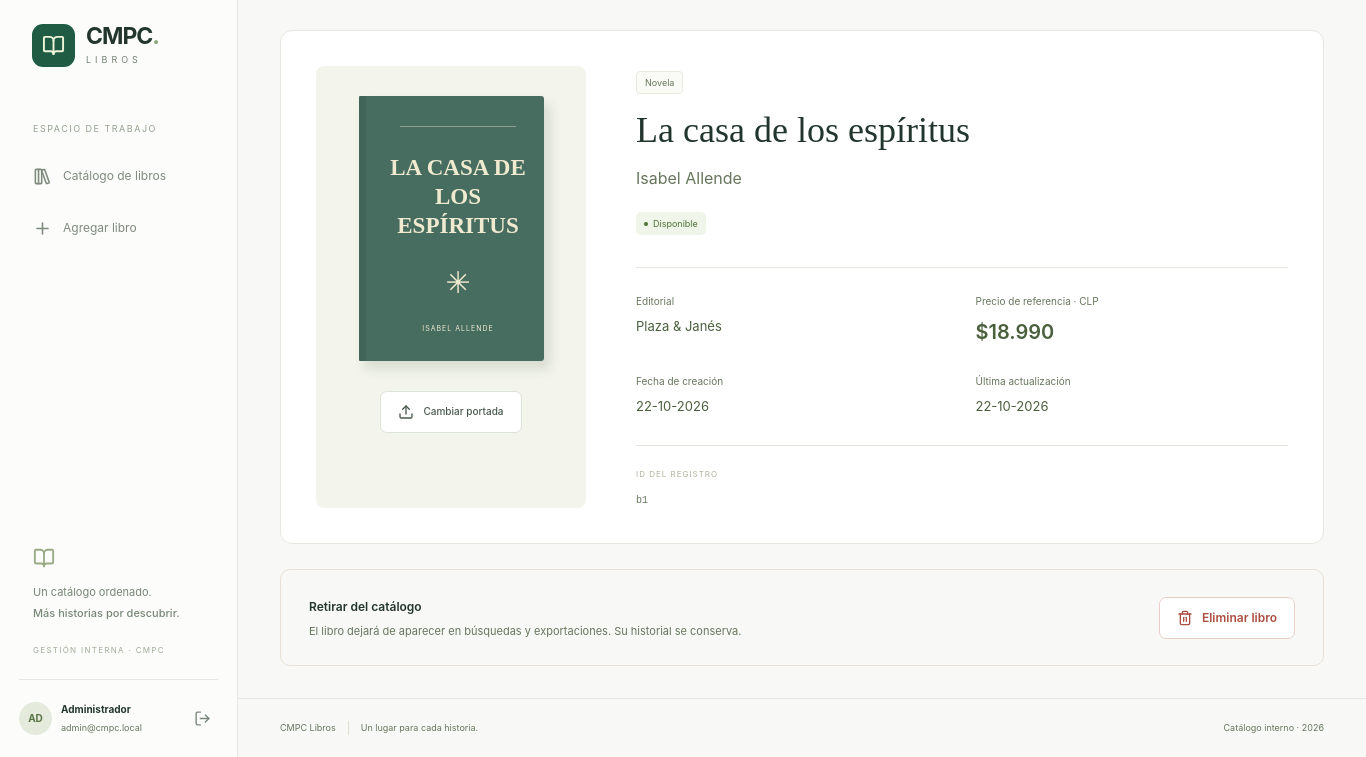
Detalle › confirma eliminación, cancela y luego elimina
This screenshot has width=1366, height=757.
(page scrolled)
Expected: the heading "La casa de los espíritus" is shown, top-left (636, 110), bottom-right (970, 150)
Click the button "Eliminar libro" at (1227, 618), box top-left (1159, 597), bottom-right (1295, 639)
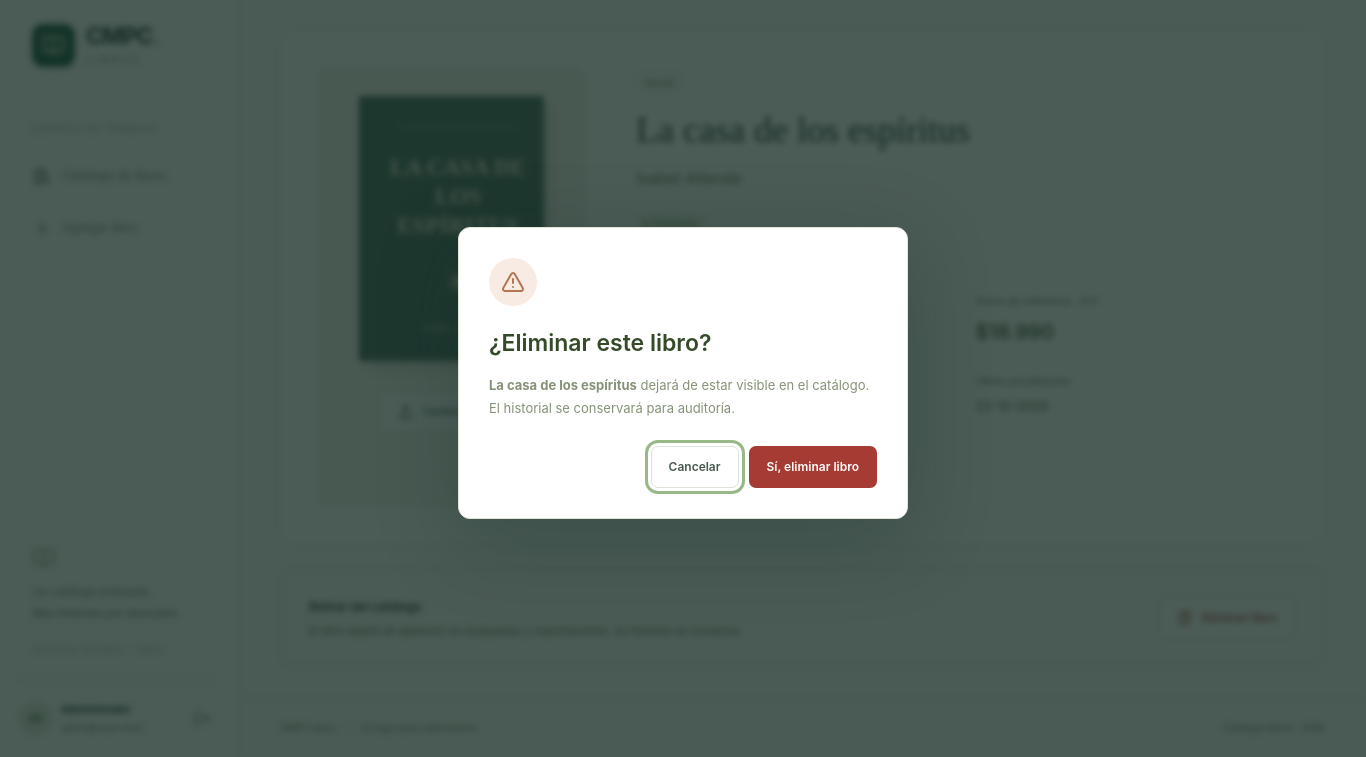
Expected: the dialog is shown, top-left (458, 227), bottom-right (908, 519)
Click the button "Cancelar" at (695, 467), box top-left (651, 446), bottom-right (739, 488)
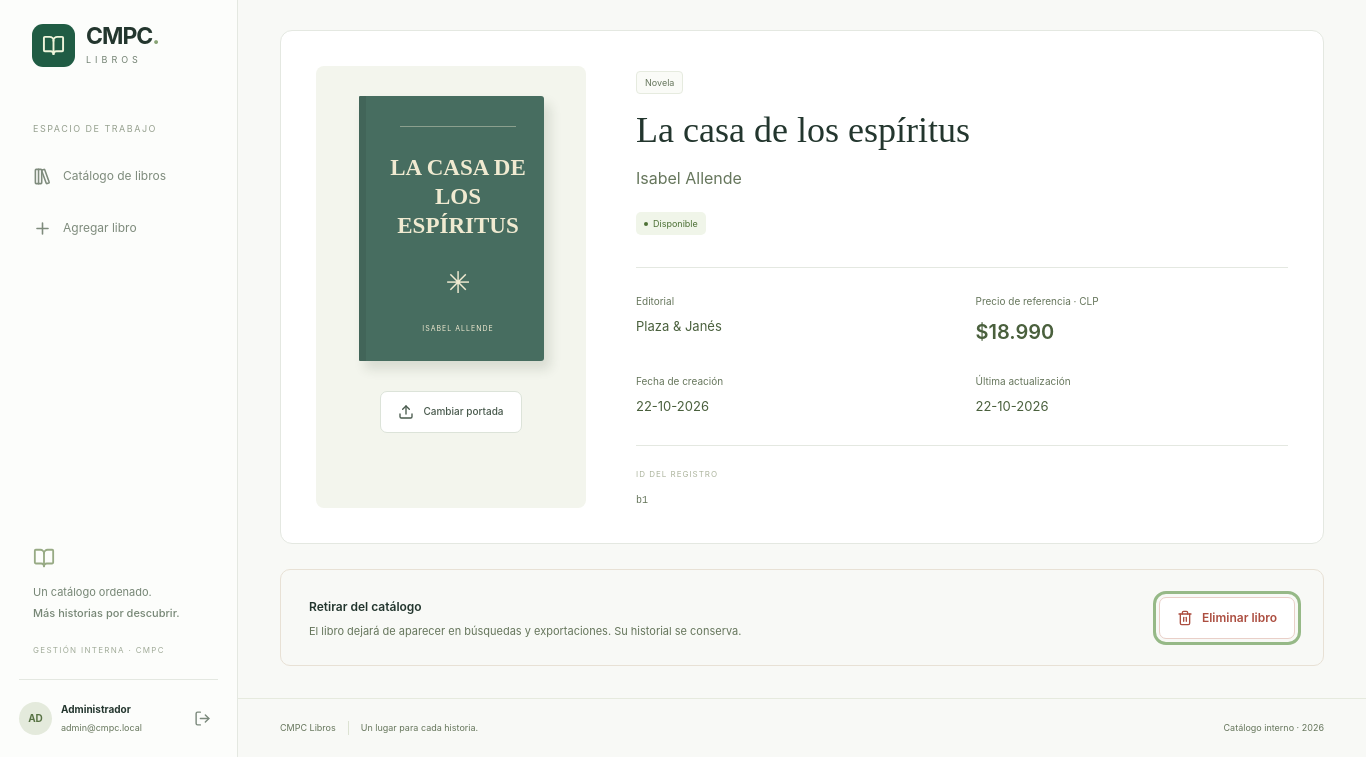
Expected: the dialog is gone
Click the button "Eliminar libro" at (1227, 618), box top-left (1159, 597), bottom-right (1295, 639)
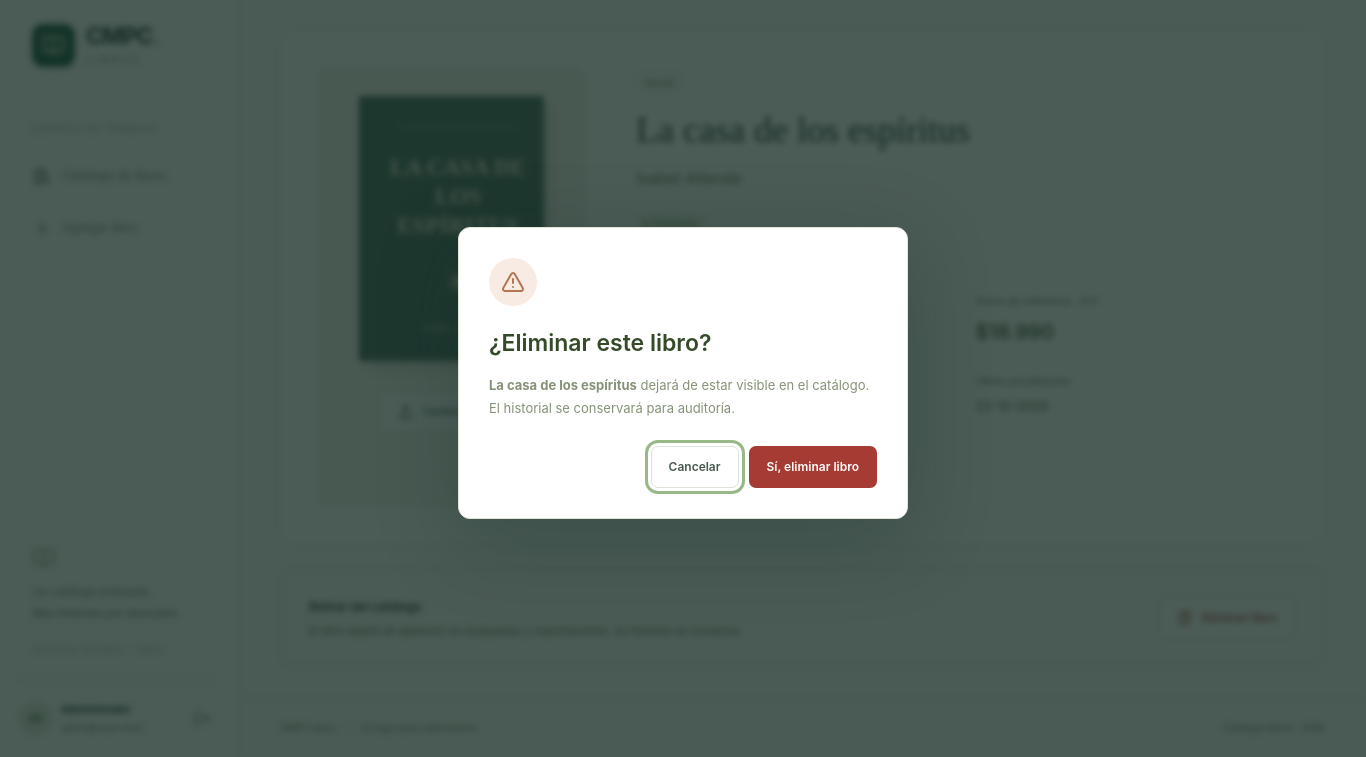
Click the button "Sí, eliminar libro" at (813, 467), box top-left (748, 446), bottom-right (877, 488)
(page scrolled)
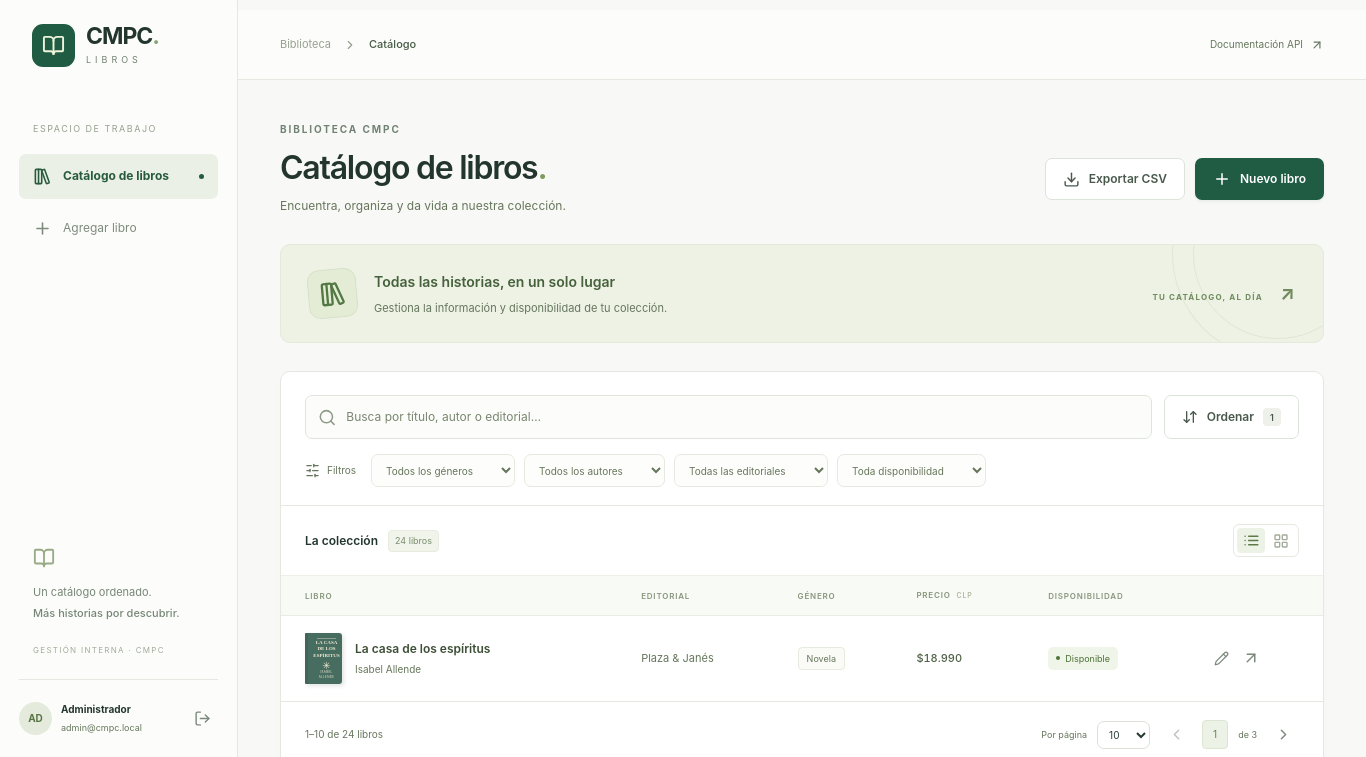
Expected: the heading "Catálogo de libros." is shown, top-left (280, 149), bottom-right (566, 187)
